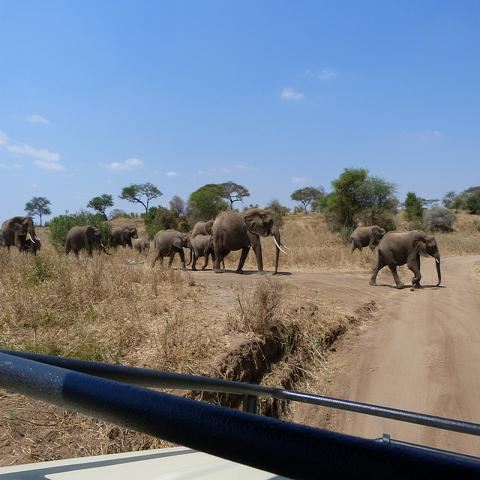car: (3, 350, 478, 470)
